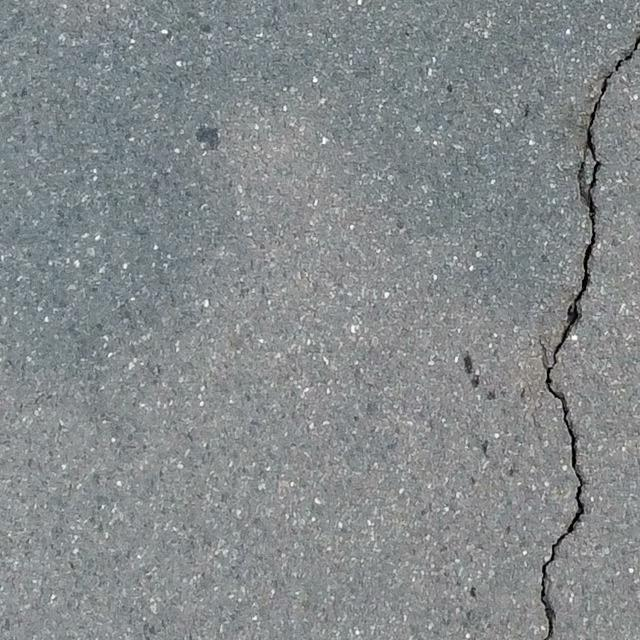LongitudinalCrack: (538, 34, 640, 640)
